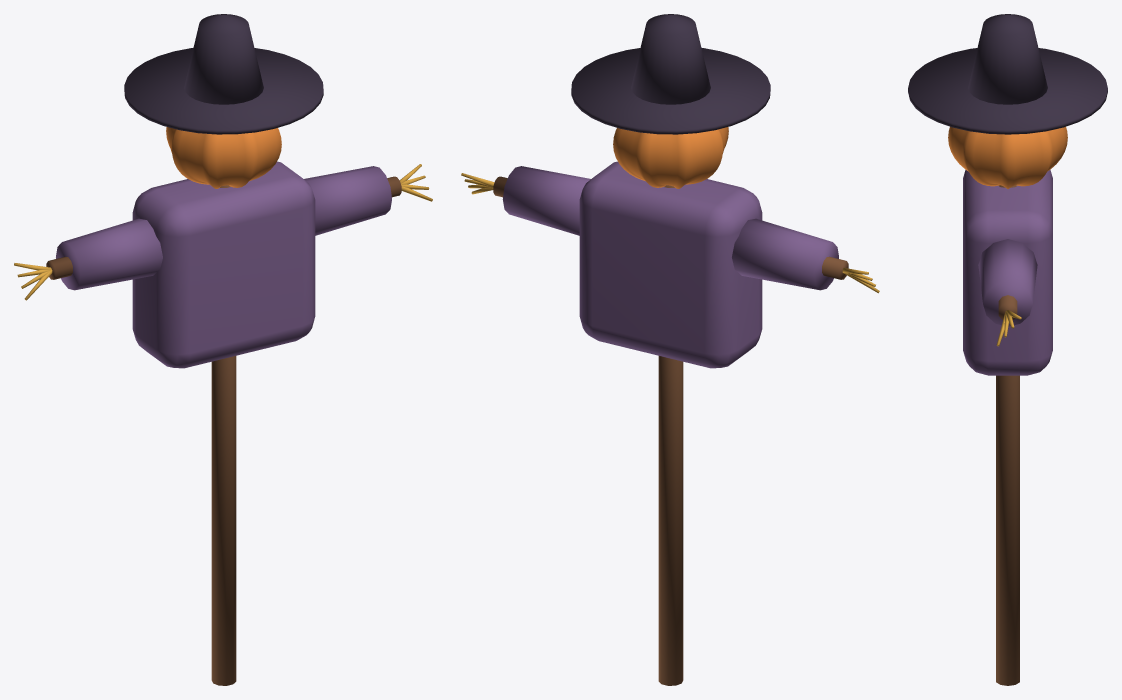
Rendered from scarecrow.glb.
The picture shows the model from 3 angles, left to right: view 1: azimuth 30°, elevation 25°; view 2: azimuth 150°, elevation 25°; view 3: azimuth 270°, elevation 25°; orthographic projection.
Parts seen in each view (by area): view 1: LH_scarecrow; view 2: LH_scarecrow; view 3: LH_scarecrow.
Boxes of the visible parts, x1=… form: LH_scarecrow: x1=14, y1=14, x2=432, y2=685; LH_scarecrow: x1=461, y1=14, x2=879, y2=685; LH_scarecrow: x1=908, y1=14, x2=1107, y2=685.
Bounding box in the file's own units: 0.943 × 1.47 × 0.4.
